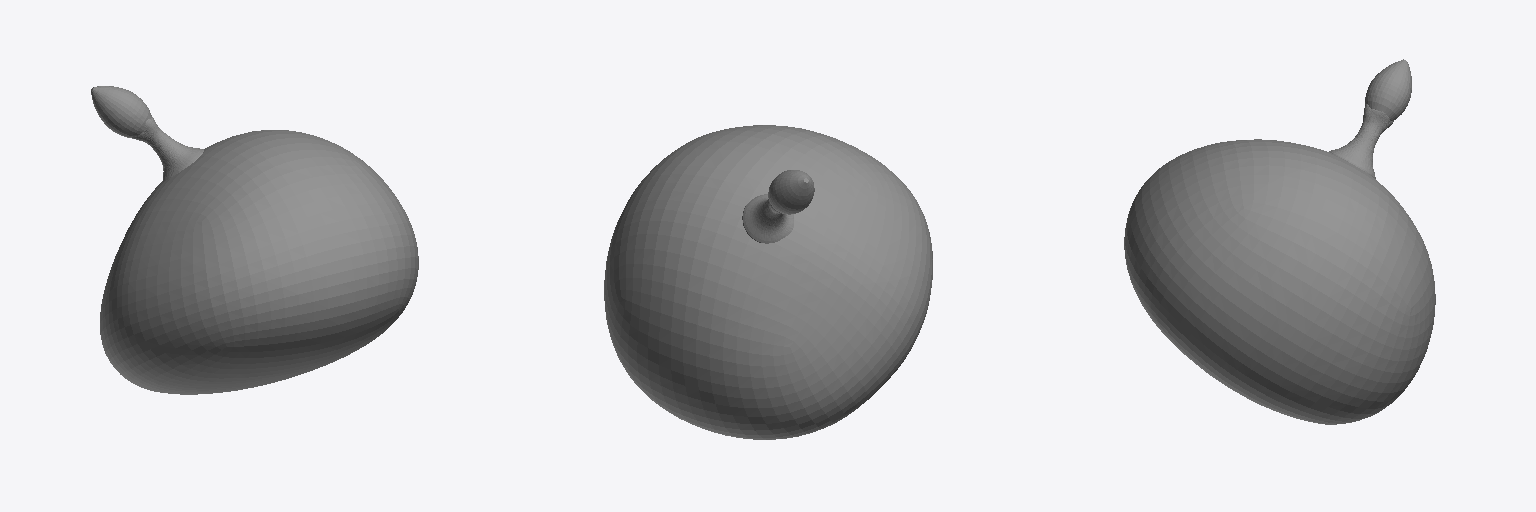
The model's file is BolaDerecha.obj.
3 views of the same model, side by side, from view 1: azimuth 30°, elevation 25°; view 2: azimuth 150°, elevation 25°; view 3: azimuth 270°, elevation 25° (orthographic).
Parts seen in each view (by area): view 1: cuerpoelectro, Sphere, Cylinder; view 2: cuerpoelectro, Cylinder, Sphere; view 3: cuerpoelectro, Sphere, Cylinder.
Boxes of the visible parts, x1=… form: cuerpoelectro: x1=100, y1=130, x2=418, y2=394; Sphere: x1=91, y1=86, x2=151, y2=137; Cylinder: x1=132, y1=117, x2=203, y2=181; cuerpoelectro: x1=604, y1=125, x2=932, y2=439; Cylinder: x1=742, y1=194, x2=793, y2=243; Sphere: x1=768, y1=170, x2=814, y2=214; cuerpoelectro: x1=1124, y1=139, x2=1435, y2=424; Sphere: x1=1365, y1=59, x2=1411, y2=120; Cylinder: x1=1329, y1=104, x2=1393, y2=178.
Size of the model in its own units: 0.4078 by 0.4096 by 0.3906.